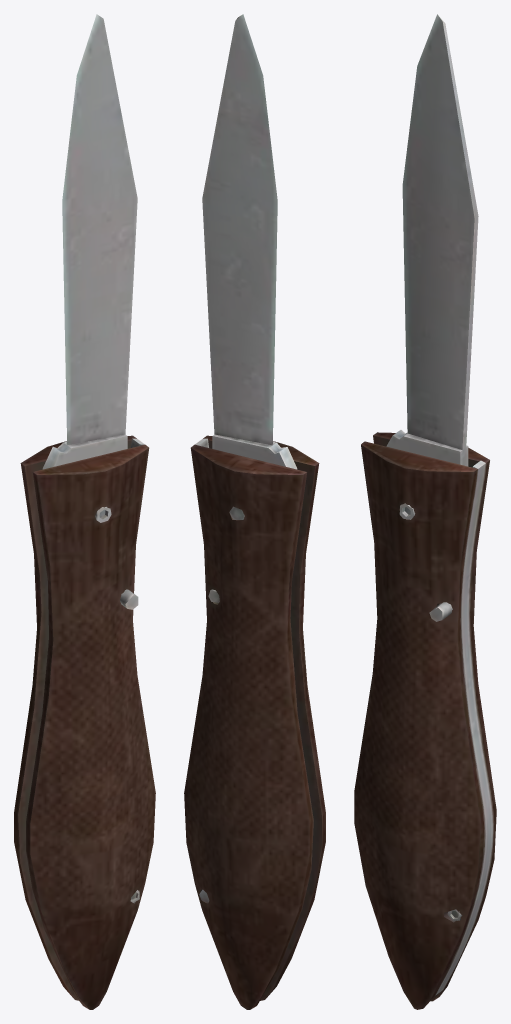
The model's file is fish_knife.glb.
3 renders of one model, left to right at view 1: azimuth 30°, elevation 25°; view 2: azimuth 150°, elevation 25°; view 3: azimuth 330°, elevation 25°, orthographic.
Parts seen in each view (by area): view 1: fish_knife_handle, fish_knife_blade; view 2: fish_knife_handle, fish_knife_blade; view 3: fish_knife_handle, fish_knife_blade.
Part boxes in pixels (bbox=[...]): fish_knife_handle: bbox=[14, 435, 155, 1009]; fish_knife_blade: bbox=[42, 14, 137, 469]; fish_knife_handle: bbox=[184, 435, 325, 1009]; fish_knife_blade: bbox=[202, 14, 297, 469]; fish_knife_handle: bbox=[354, 432, 496, 1009]; fish_knife_blade: bbox=[386, 14, 478, 466].
Bounding box in the file's own units: 0.0289 × 0.2157 × 0.0161.
Materials: 1 (1 with a texture image).
